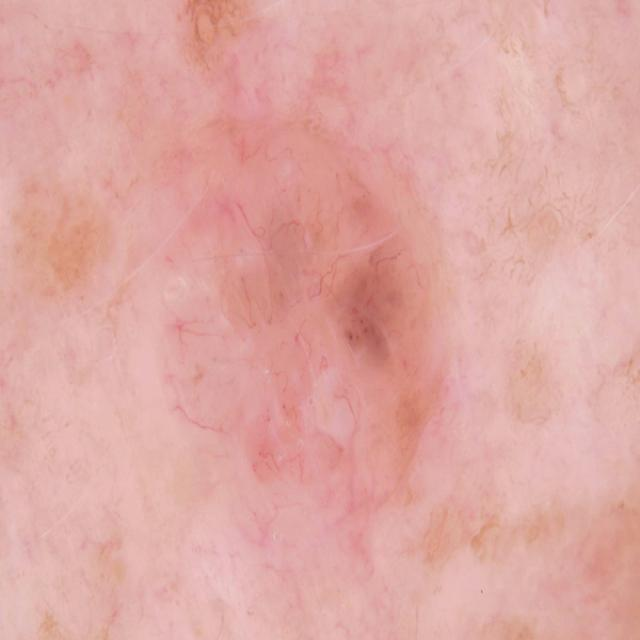Skin-Cancer Basal cell carcinoma: (56, 0, 620, 640)
